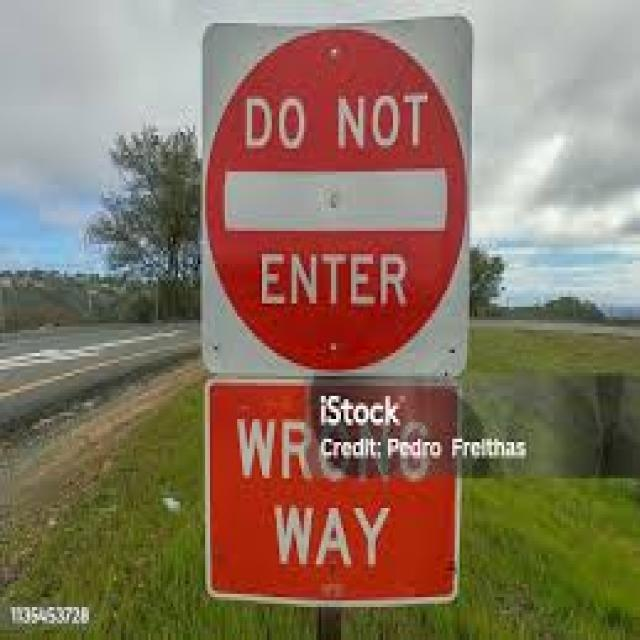doNotEnter: (203, 18, 471, 376)
